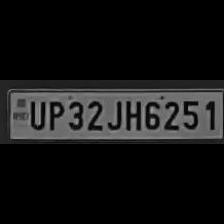1: (200, 98, 220, 130)
2: (84, 97, 104, 131), (161, 97, 179, 130)
3: (65, 97, 83, 130)
5: (178, 98, 200, 130)
6: (142, 97, 160, 130)
H: (123, 97, 141, 131)
J: (106, 97, 122, 131)
P: (45, 97, 63, 130)
U: (26, 98, 44, 130)
